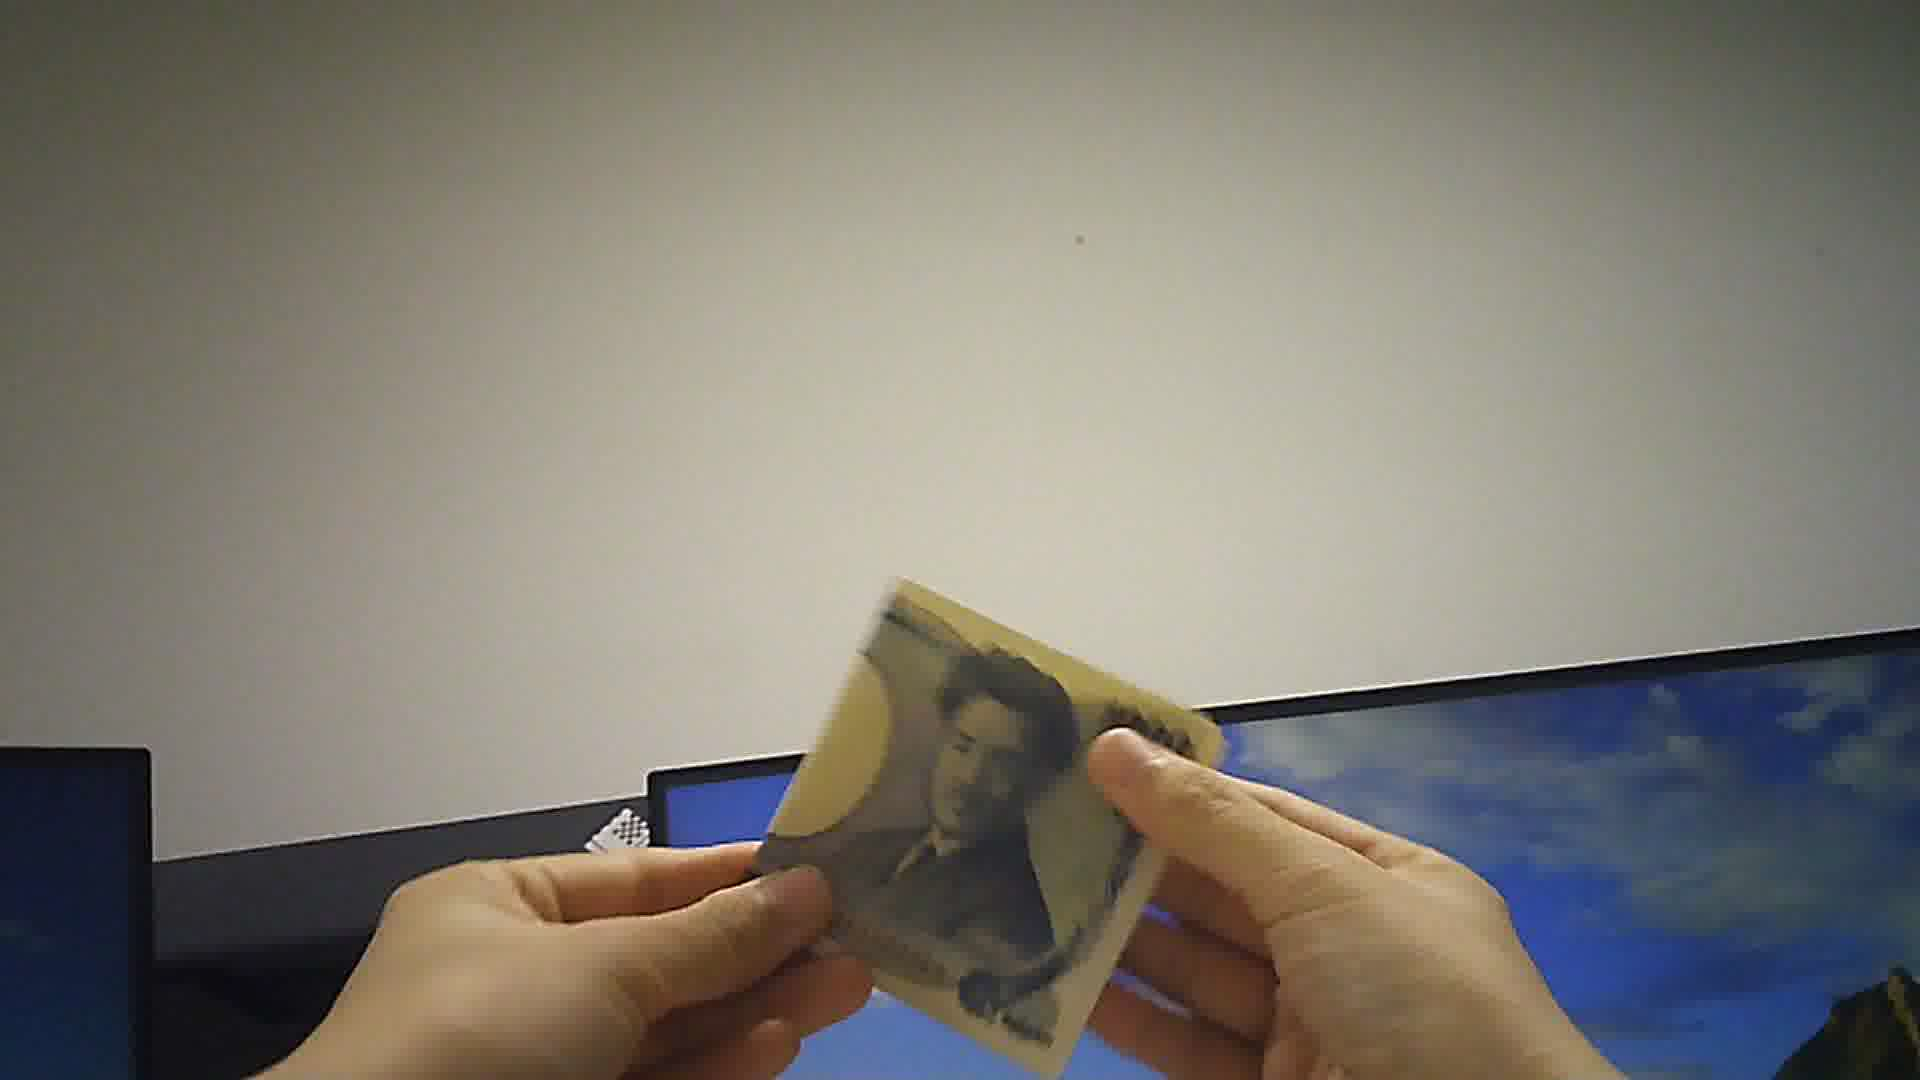1,000 Yen: (742, 564, 1232, 1079)
